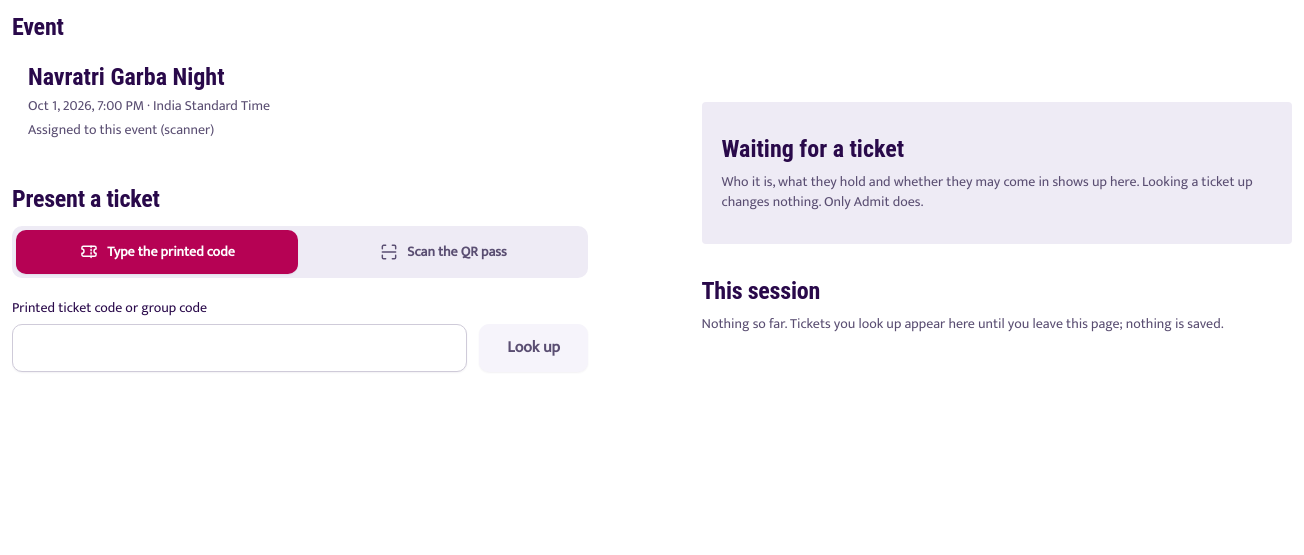
Test case: DoorWorkspace: looking up, then admitting › says a refusal plainly and offers no way to admit
The width and height of the screenshot is (1304, 555).
Type "det-abc123xyz" into the field labelled "Printed ticket code or group code" at (240, 348), box [12,324,467,372]
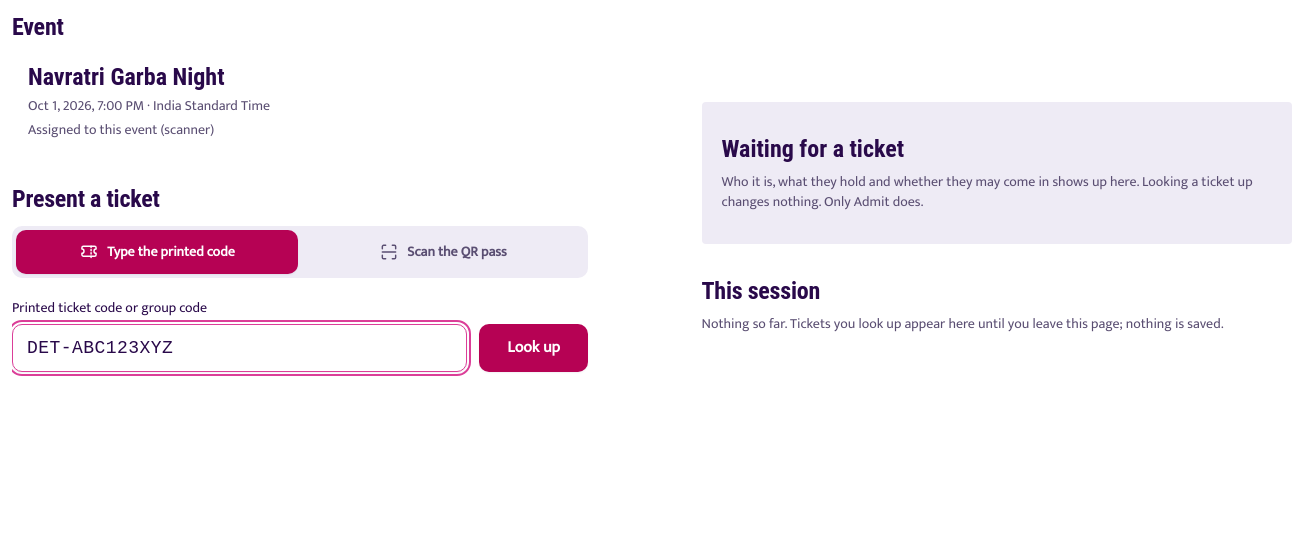
Click the button "Look up" at (534, 348), box [479,324,588,372]
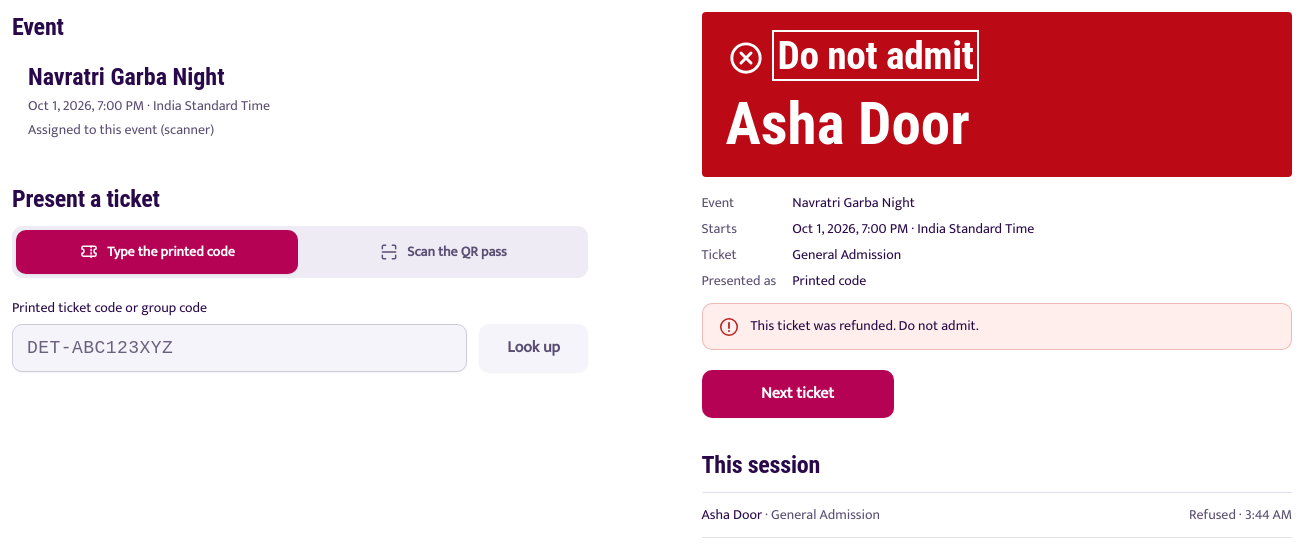
Expected: the heading "Do not admit" is shown, [778,36,974,76]
Expected: the message shows "refunded", [750,314,979,337]
